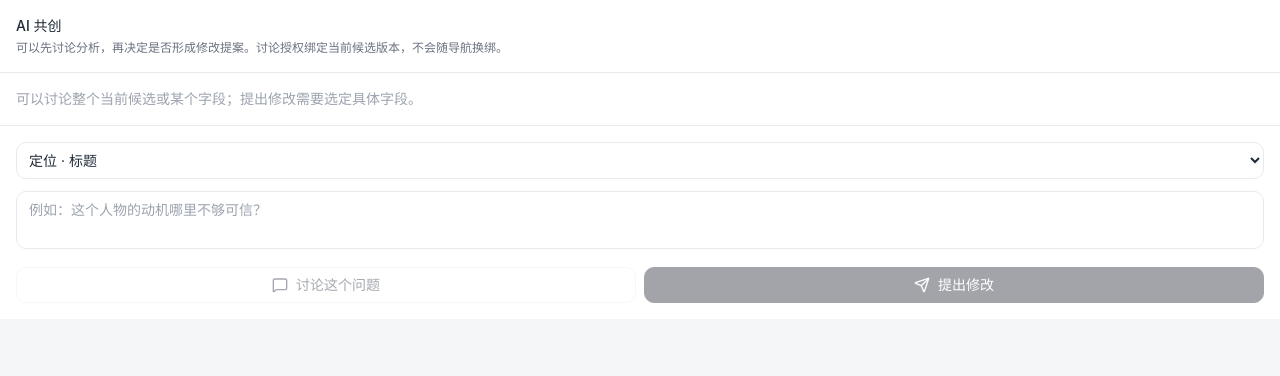
Test: 输入后切换字段必须重新核对草稿目标
The image size is (1280, 376).
Type "只讨论标题" into the text box named "共创消息". click: (640, 220)
box: [16,191,1264,249]
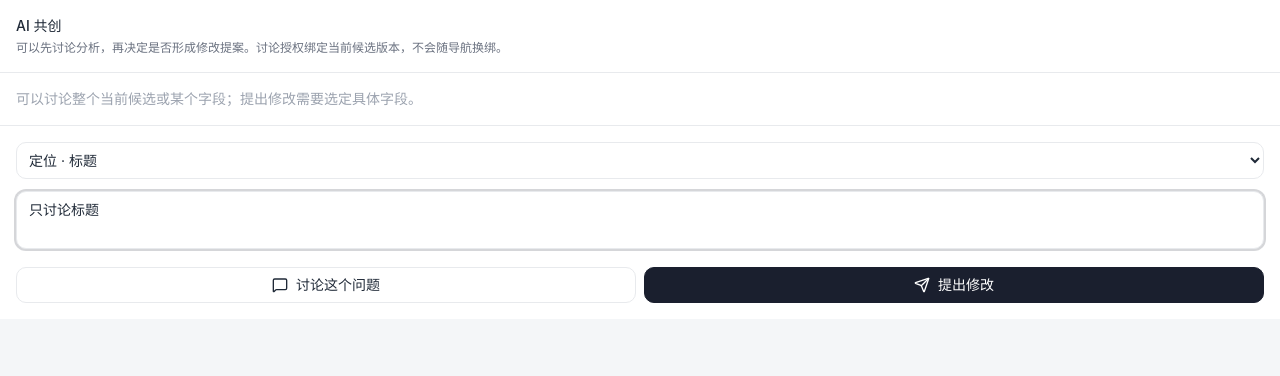
Select "结构 · 主角成长" in the dropdown named "共创目标字段". click: (640, 160)
box: [16,142,1264,179]
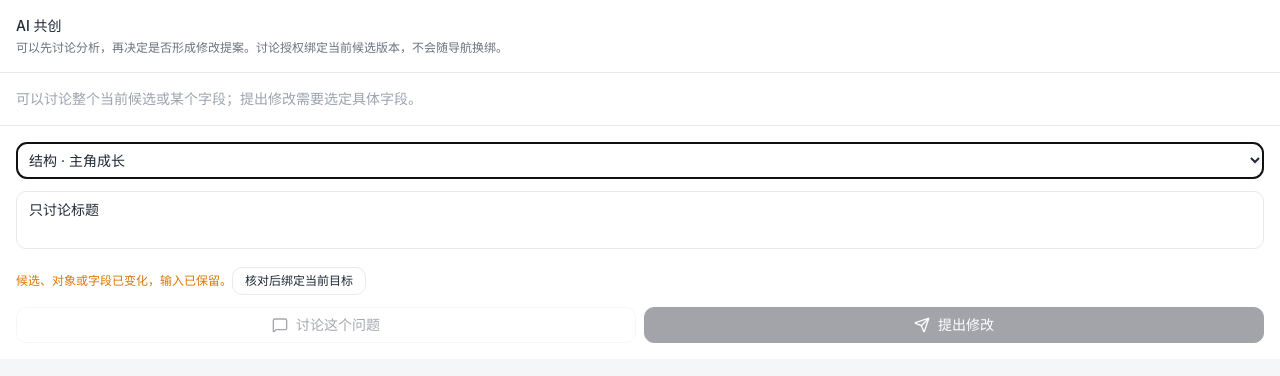
Check: the message shows "字段已变化", box [16,273,232,288]
Check: the button "提出修改" is disabled, box [644,307,1264,343]
